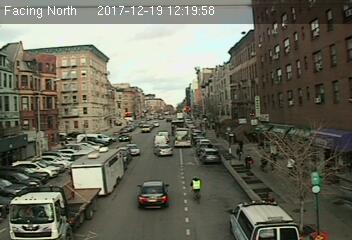bicycle: (189, 174, 204, 205)
car: (137, 179, 171, 210), (201, 146, 220, 163), (127, 142, 140, 156), (154, 145, 172, 155), (118, 133, 129, 141)
pedestrian: (245, 153, 255, 177)
police: (229, 199, 308, 238)
truck: (7, 183, 99, 240), (68, 146, 124, 191)
